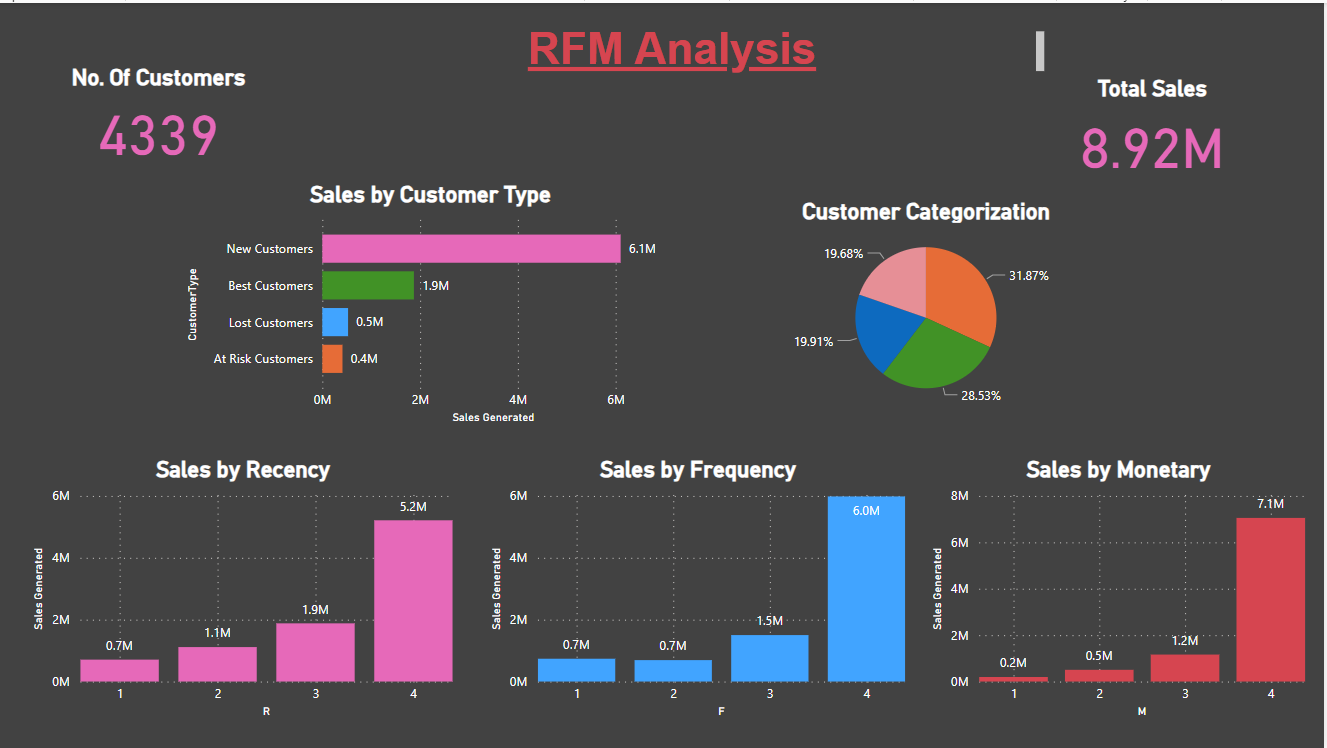

Layout of this report page (visuals, bound fields, positions):
{"tool":"powerbi","page":{"name":"Page 1","canvas":[1280,720],"ordinal":0},"visuals":[{"type":"card","title":"No. Of Customers","fields":{"Values":["CountNonNull(Sheet1.CustomerType)"]},"box":[0,59.1,309.9,98.9],"z":0},{"type":"card","title":"Total Sales","fields":{"Values":["Sum(Sheet1.Monetary)"]},"box":[947.9,69.9,331.7,102.5],"z":1},{"type":"pieChart","title":"Customer Categorization","fields":{"Category":["Sheet1.CustomerType"],"Y":["CountNonNull(Sheet1.CustomerType)"]},"box":[648.8,188.1,493.3,207.4],"z":2},{"type":"columnChart","title":"Sales by Monetary ","fields":{"Category":["Sheet1.M"],"Y":["Sum(Sheet1.Monetary)"]},"box":[896.1,437.8,370.3,256.9],"z":3},{"type":"columnChart","title":"Sales by Recency ","fields":{"Y":["Sum(Sheet1.Monetary)"],"Category":["Sheet1.R"]},"box":[28.9,437.8,414.9,256.9],"z":4},{"type":"columnChart","title":"Sales by Frequency ","fields":{"Y":["Sum(Sheet1.Monetary)"],"Category":["Sheet1.F"]},"box":[470.4,437.8,410.1,256.9],"z":5},{"type":"barChart","title":"Sales by Customer Type ","fields":{"Y":["Sum(Sheet1.Monetary)"],"Category":["Sheet1.CustomerType"]},"box":[177.3,172.5,480,238.8],"z":6},{"type":"textbox","box":[294.3,19.3,720,53.1],"z":7}]}

Visuals, with their boxes in screenshot pixels (x1, y1, x2, y2), scaled from the page's 1280x720 canvas onto the 1327x748 screenshot:
"No. Of Customers" card: locate(0, 61, 321, 164)
"Total Sales" card: locate(983, 73, 1326, 179)
"Customer Categorization" pieChart: locate(673, 195, 1184, 411)
"Sales by Monetary " columnChart: locate(929, 455, 1313, 722)
"Sales by Recency " columnChart: locate(30, 455, 460, 722)
"Sales by Frequency " columnChart: locate(488, 455, 913, 722)
"Sales by Customer Type " barChart: locate(184, 179, 681, 427)
textbox: locate(305, 20, 1052, 75)
